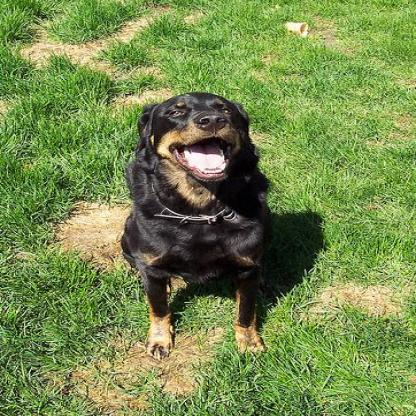Rottweiler: (122, 90, 272, 358)
